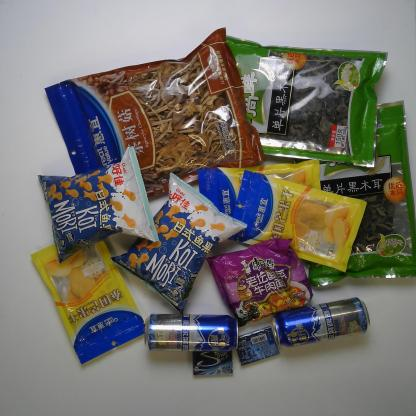Alcohol: (272, 296, 372, 348), (143, 312, 240, 353)
Dried Food: (44, 27, 267, 202), (291, 100, 416, 287), (224, 34, 388, 168)
Dried Fruit: (225, 169, 369, 274), (30, 238, 145, 365), (197, 159, 322, 241)
Gum: (236, 324, 280, 366), (192, 348, 234, 377)
Instant Noodles: (204, 238, 315, 328)
Puffed Food: (108, 171, 248, 314), (37, 145, 159, 264)
